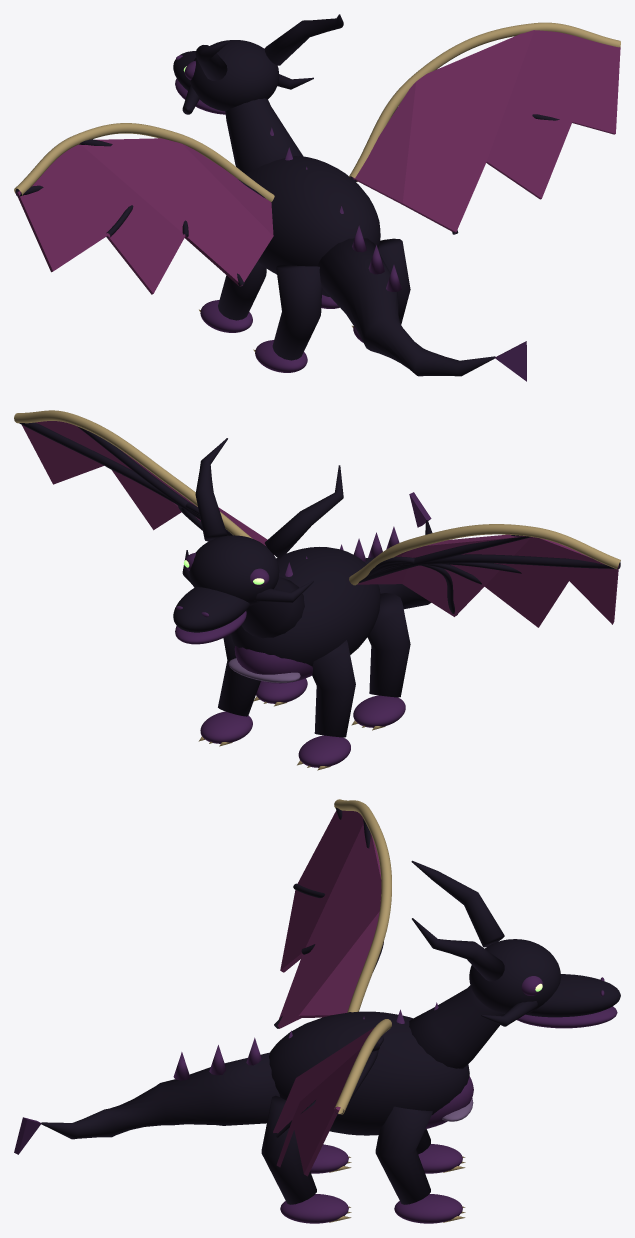
Rendered from maleficent-dragon.glb.
3 renders of one model, top to bottom at view 1: azimuth 30°, elevation 25°; view 2: azimuth 150°, elevation 25°; view 3: azimuth 270°, elevation 25°, orthographic. The views are drawn at different scales.
Visible parts, largest first — view 1: scalloped bat wing membrane, scalloped bat wing membrane.001, powerful chest, serpentine tail, angular skull, muscular leg.003, arched long neck, gold wing leading edge, gold wing leading edge.001, muscular leg.002, back swept head horn, muscular leg.001 (+4 smaller); view 2: scalloped bat wing membrane.001, powerful chest, scalloped bat wing membrane, angular skull, muscular leg.003, muscular leg.002, gold wing leading edge.001, gold wing leading edge, long muzzle, arched long neck, back swept head horn.001, muscular leg (+15 smaller); view 3: scalloped bat wing membrane.001, powerful chest, serpentine tail, scalloped bat wing membrane, arched long neck, angular skull, muscular leg, gold wing leading edge.001, muscular leg.001, long muzzle, back swept head horn.001, back swept head horn (+8 smaller).
Part boxes in pixels (x1=…): scalloped bat wing membrane: x1=352, y1=30, x2=620, y2=233; scalloped bat wing membrane.001: x1=16, y1=138, x2=273, y2=294; powerful chest: x1=246, y1=156, x2=380, y2=274; serpentine tail: x1=317, y1=238, x2=495, y2=376; angular skull: x1=189, y1=40, x2=279, y2=111; muscular leg.003: x1=272, y1=264, x2=322, y2=360; arched long neck: x1=225, y1=98, x2=302, y2=173; gold wing leading edge: x1=349, y1=22, x2=620, y2=181; gold wing leading edge.001: x1=14, y1=123, x2=274, y2=202; muscular leg.002: x1=218, y1=261, x2=266, y2=320; back swept head horn: x1=264, y1=14, x2=343, y2=65; muscular leg.001: x1=378, y1=238, x2=410, y2=324; scalloped bat wing membrane.001: x1=357, y1=534, x2=618, y2=627; powerful chest: x1=231, y1=547, x2=380, y2=666; scalloped bat wing membrane: x1=22, y1=421, x2=267, y2=546; angular skull: x1=189, y1=535, x2=279, y2=605; muscular leg.003: x1=367, y1=593, x2=410, y2=697; muscular leg.002: x1=312, y1=640, x2=355, y2=737; gold wing leading edge.001: x1=349, y1=524, x2=620, y2=585; gold wing leading edge: x1=14, y1=410, x2=252, y2=538; long muzzle: x1=173, y1=587, x2=250, y2=632; arched long neck: x1=241, y1=576, x2=304, y2=638; back swept head horn.001: x1=264, y1=465, x2=343, y2=559; muscular leg: x1=218, y1=634, x2=260, y2=716; scalloped bat wing membrane.001: x1=277, y1=810, x2=381, y2=1028; powerful chest: x1=269, y1=1011, x2=469, y2=1135; serpentine tail: x1=41, y1=1052, x2=279, y2=1139; scalloped bat wing membrane: x1=273, y1=1027, x2=374, y2=1176; arched long neck: x1=409, y1=985, x2=504, y2=1068; angular skull: x1=469, y1=939, x2=561, y2=1013; muscular leg: x1=375, y1=1106, x2=432, y2=1204; gold wing leading edge.001: x1=334, y1=799, x2=391, y2=1012; muscular leg.001: x1=261, y1=1095, x2=316, y2=1204; long muzzle: x1=525, y1=974, x2=620, y2=1017; back swept head horn.001: x1=411, y1=860, x2=504, y2=947; back swept head horn: x1=412, y1=918, x2=504, y2=981.
Bounding box in the file's own units: 10.61 × 4.9 × 8.83.
